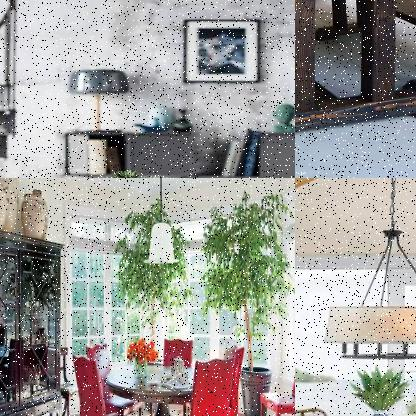table: (295, 0, 415, 152), (102, 363, 219, 415)
